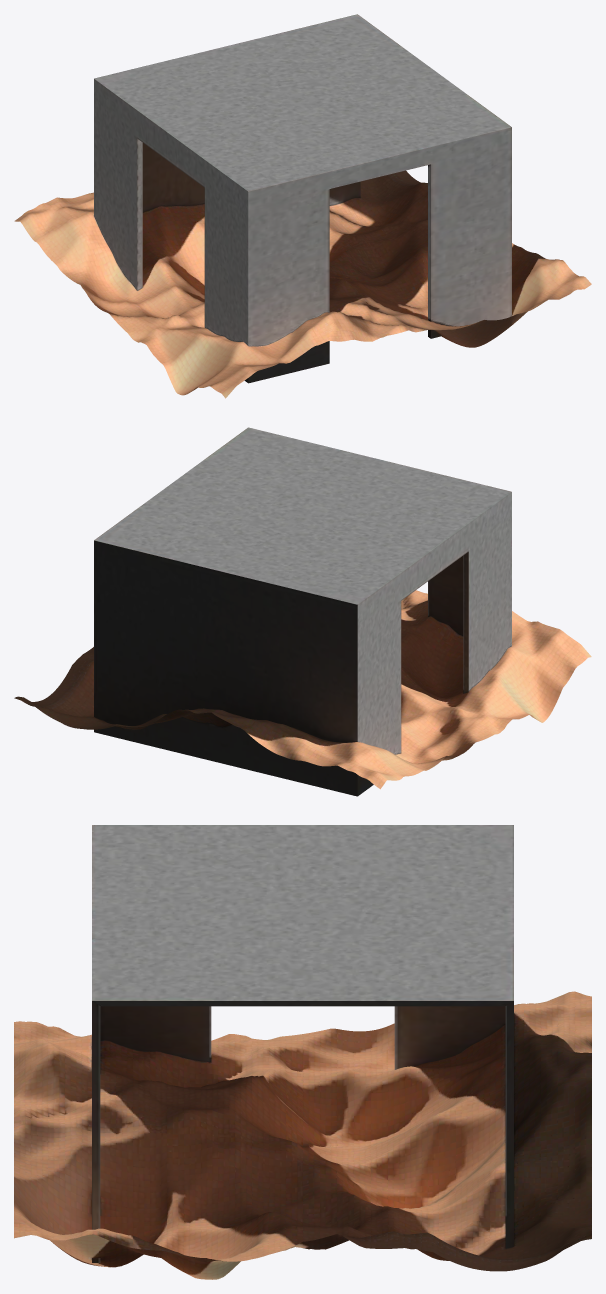
3 renders of one model, top to bottom at view 1: azimuth 30°, elevation 25°; view 2: azimuth 150°, elevation 25°; view 3: azimuth 270°, elevation 25°, orthographic. The views are drawn at different scales.
Parts seen in each view (by area): view 1: room, sand; view 2: room, sand; view 3: sand, room.
Part boxes in pixels (bbox=[...]): room: bbox=[94, 14, 511, 383]; sand: bbox=[14, 170, 591, 398]; room: bbox=[94, 427, 511, 796]; sand: bbox=[14, 590, 591, 789]; sand: bbox=[14, 991, 591, 1279]; room: bbox=[92, 825, 513, 1262].
Size of the model in its own units: 40 by 21.9 by 40.
Materials: 1 (1 with a texture image).
